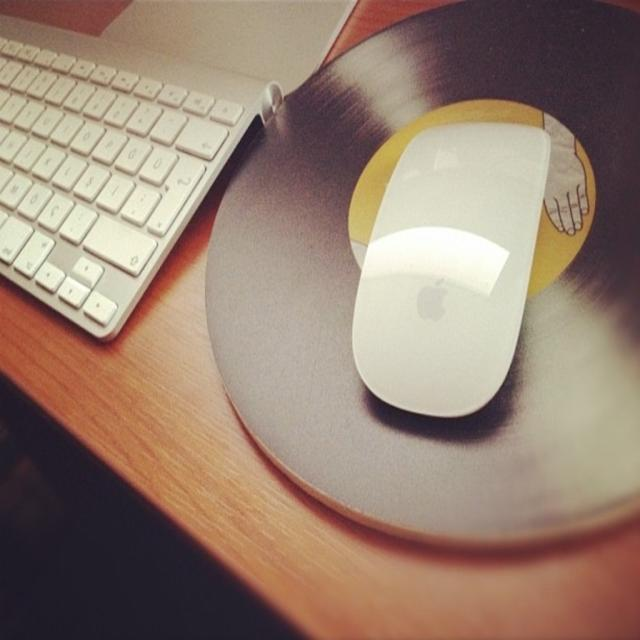Computer-mouse: (352, 124, 548, 415)
